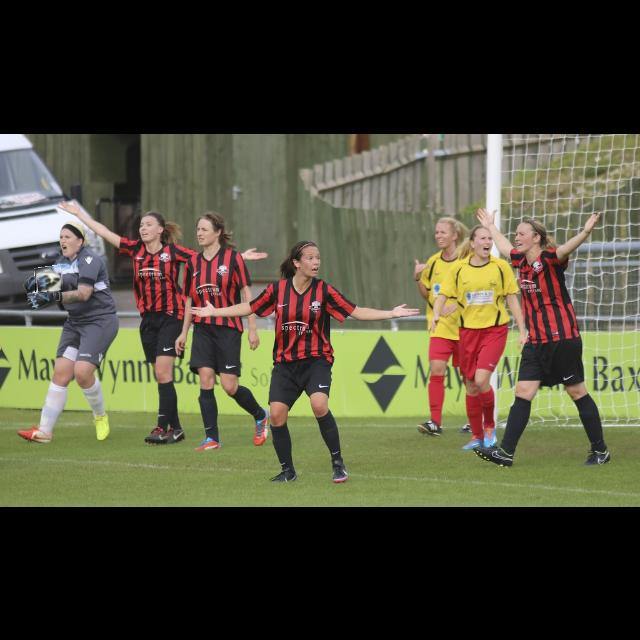Football: (35, 266, 63, 292)
